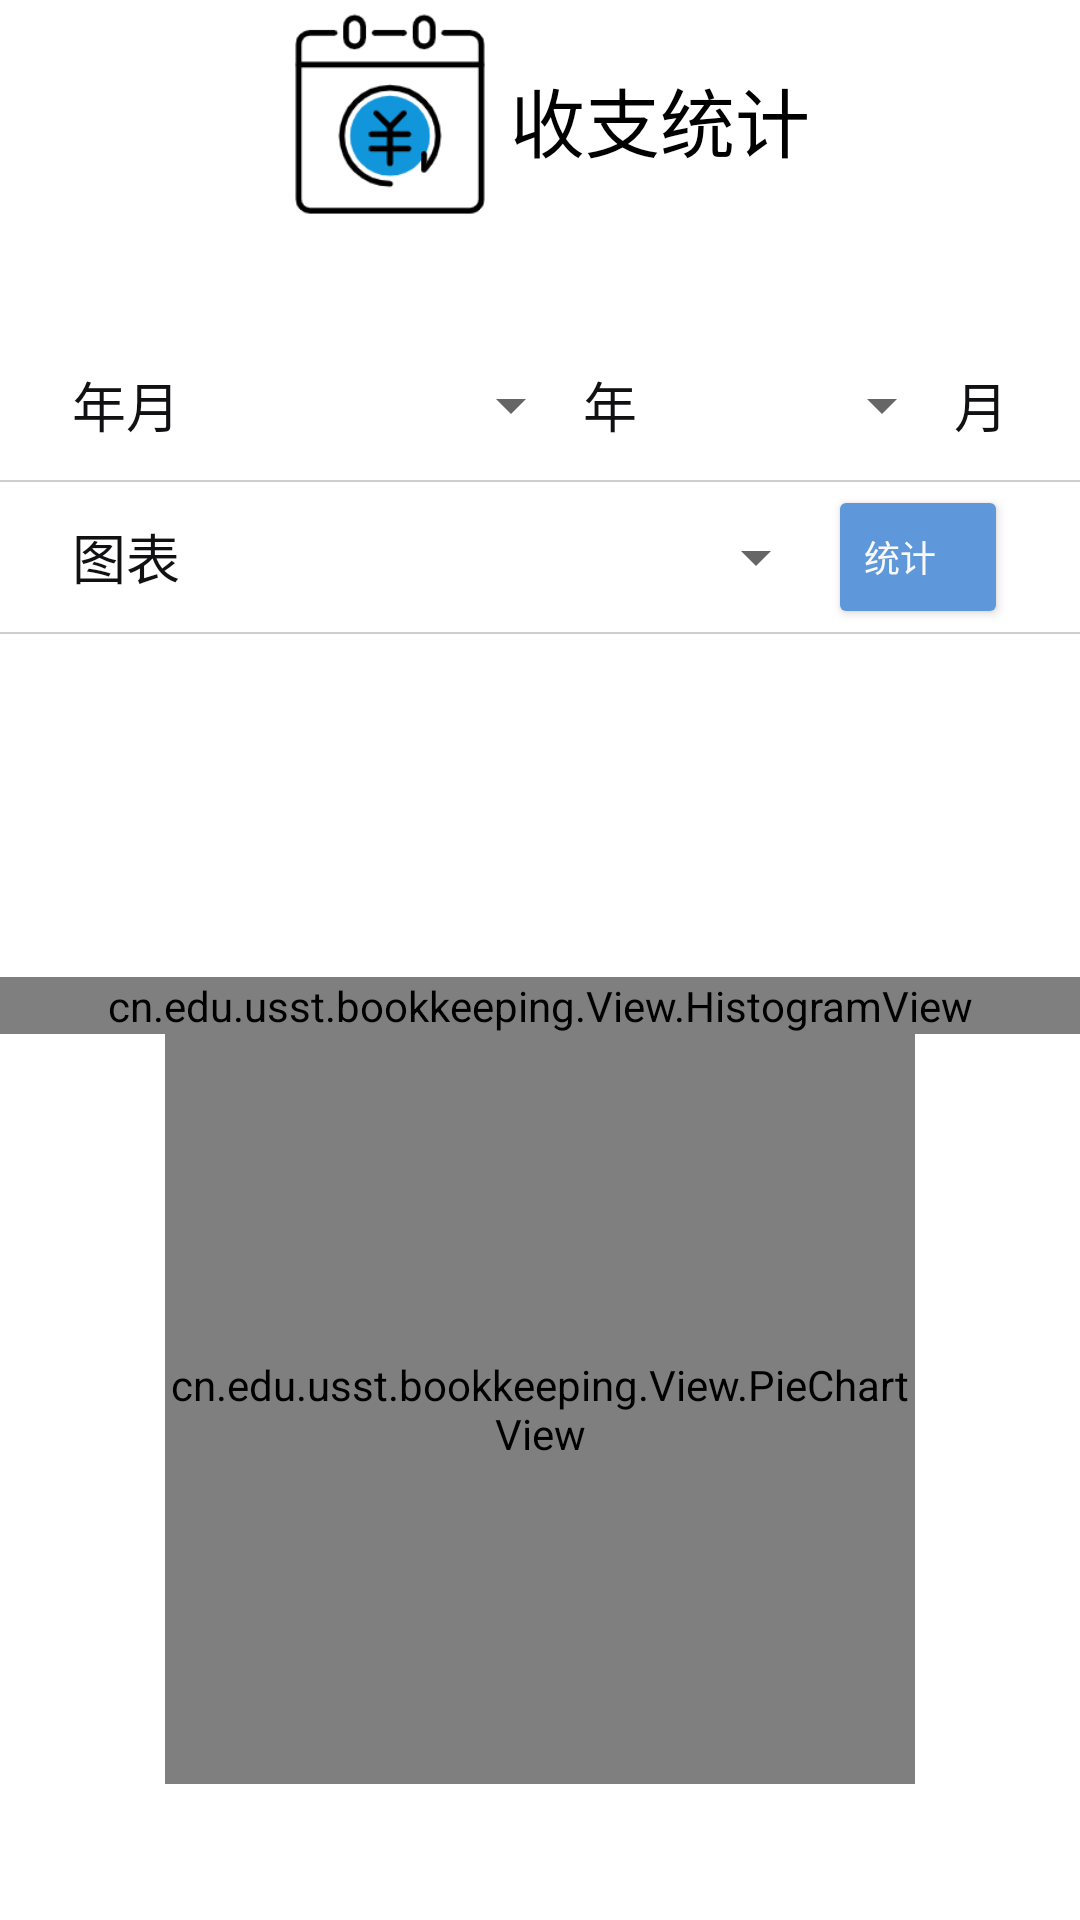

Screen size 1080px×1920px. Icon name, then its box in pixels as region(x1, y1, x2, y2):
deal record: region(295, 14, 485, 214)
